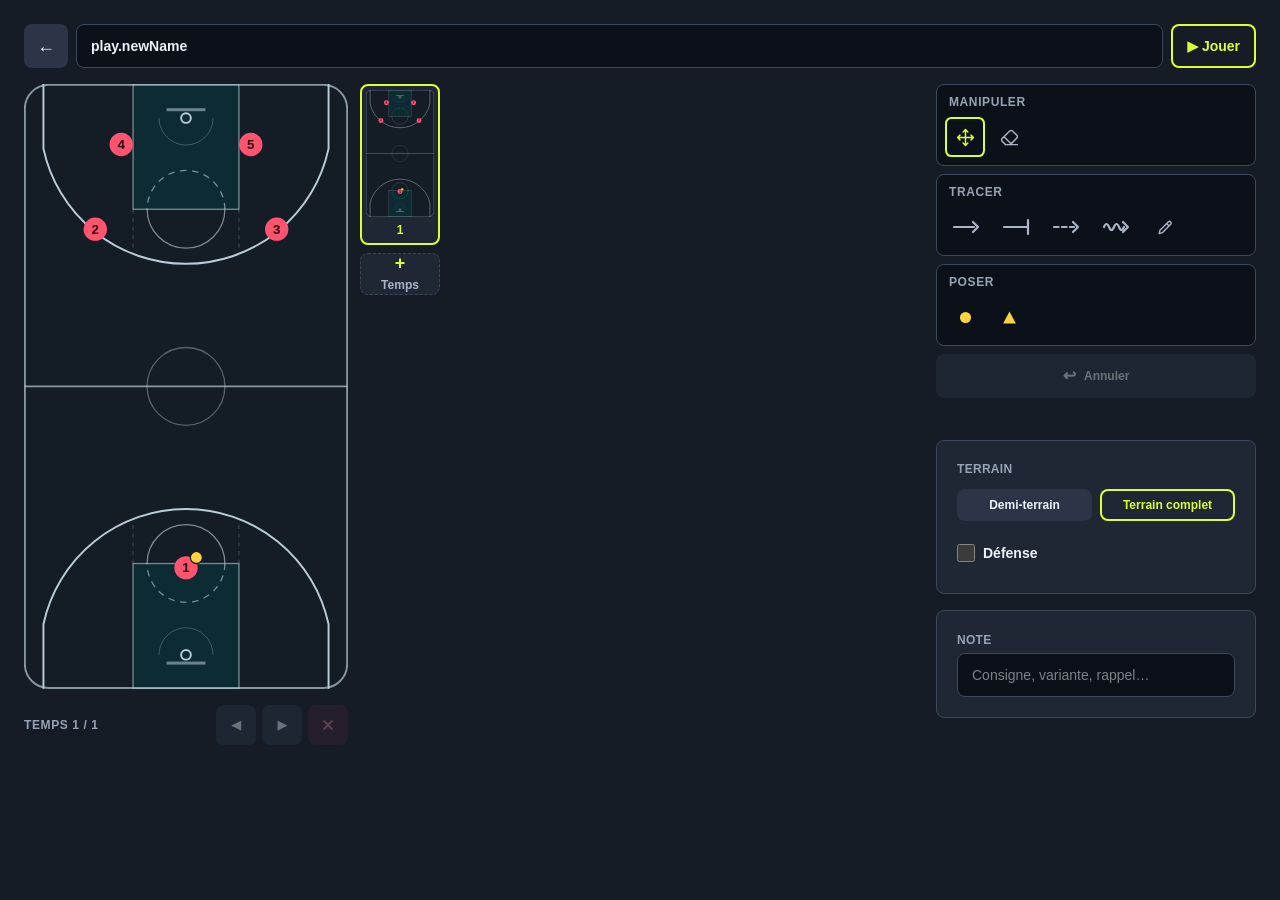
SchemaEdit — the playbook editor › refuses the move to a half court while the back court is occupied
The image size is (1280, 900).
Click the button "Demi-terrain". click: point(1024, 505)
box: [957,489,1092,521]
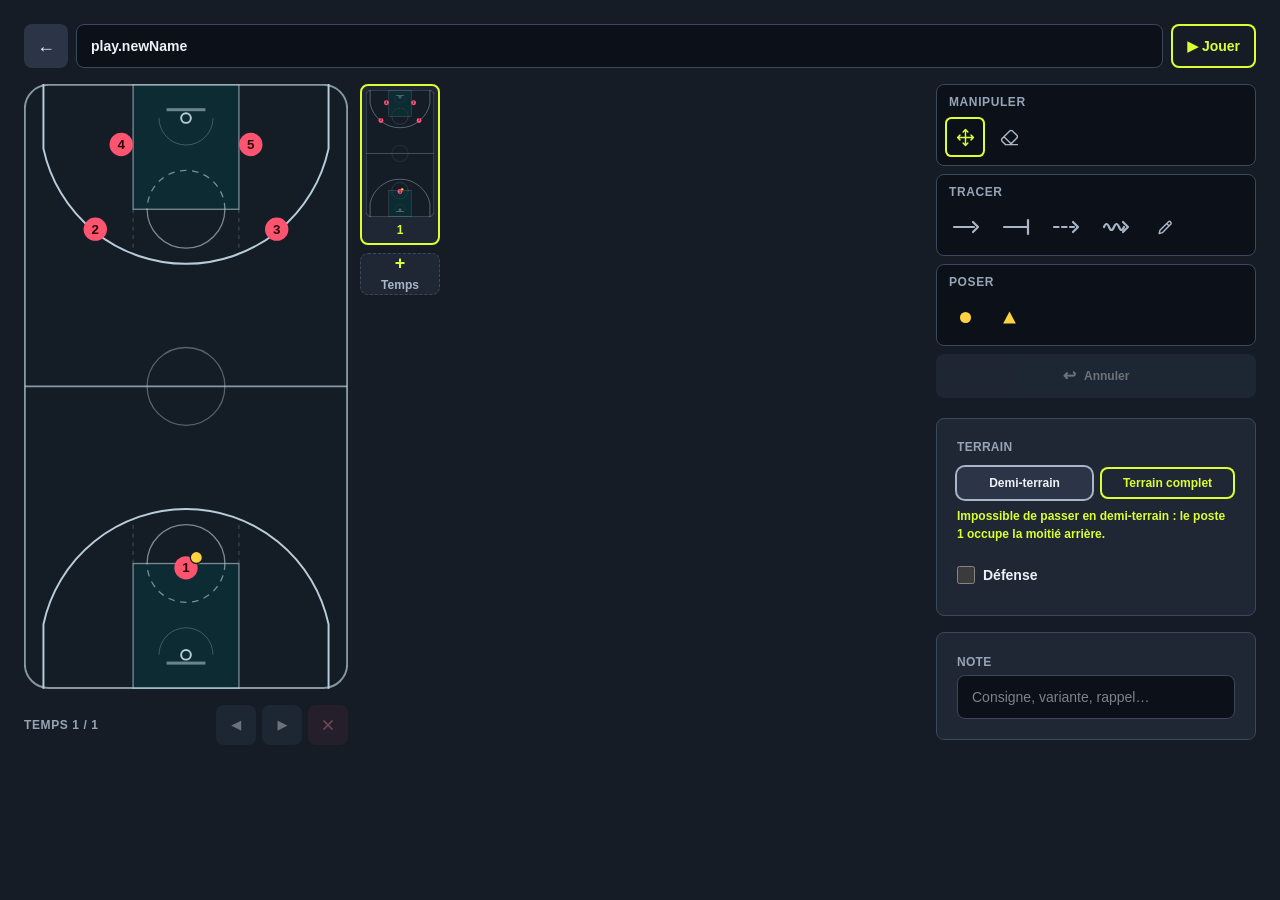
Now the text "le poste 1 occupe la moitié arrière" is shown, box [957,509,1225,541]
